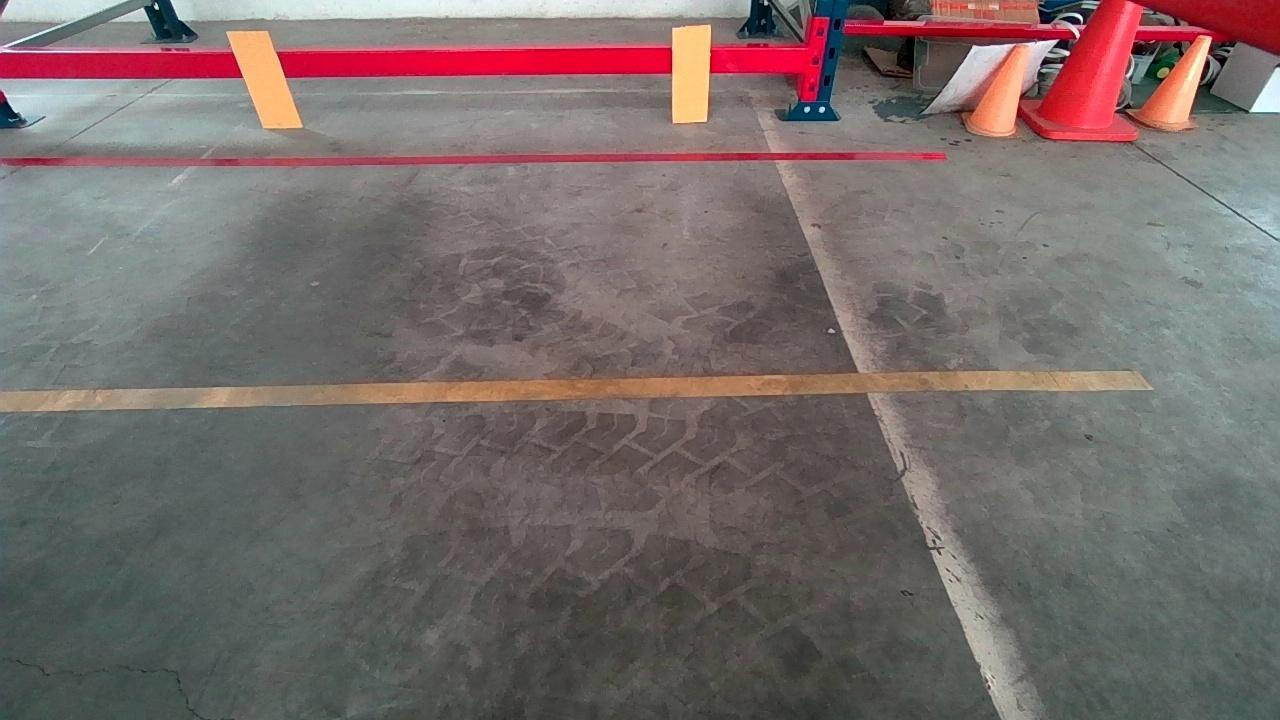h_rack: (14, 46, 812, 84)
orange_strip: (228, 30, 302, 127), (673, 26, 710, 121)
red_line: (8, 146, 947, 168)
yellow_line: (6, 364, 1137, 421)
